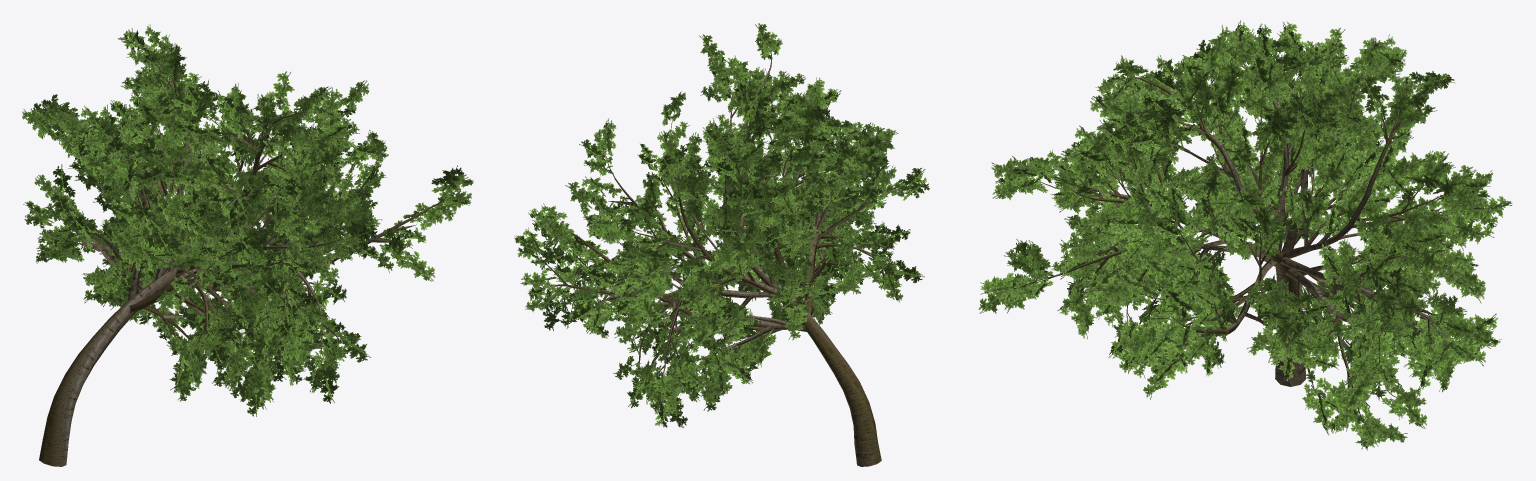
The model's file is tree_lakeside_oak_scurve.glb.
The picture shows the model from 3 angles, left to right: view 1: azimuth 30°, elevation 25°; view 2: azimuth 150°, elevation 25°; view 3: azimuth 270°, elevation 25°; orthographic projection. The views are drawn at different scales.
Parts seen in each view (by area): view 1: Leaves, Branches; view 2: Leaves, Branches; view 3: Leaves, Branches.
Boxes of the visible parts, box(x1,y1,x2,y2) form: Leaves: box(22, 24, 473, 416); Branches: box(39, 49, 458, 466); Leaves: box(514, 23, 929, 427); Branches: box(537, 52, 899, 466); Leaves: box(978, 20, 1512, 450); Branches: box(1031, 54, 1460, 424).
Size of the model in its own units: 16.12 by 15.47 by 17.62.
Materials: 2 (2 with a texture image).
